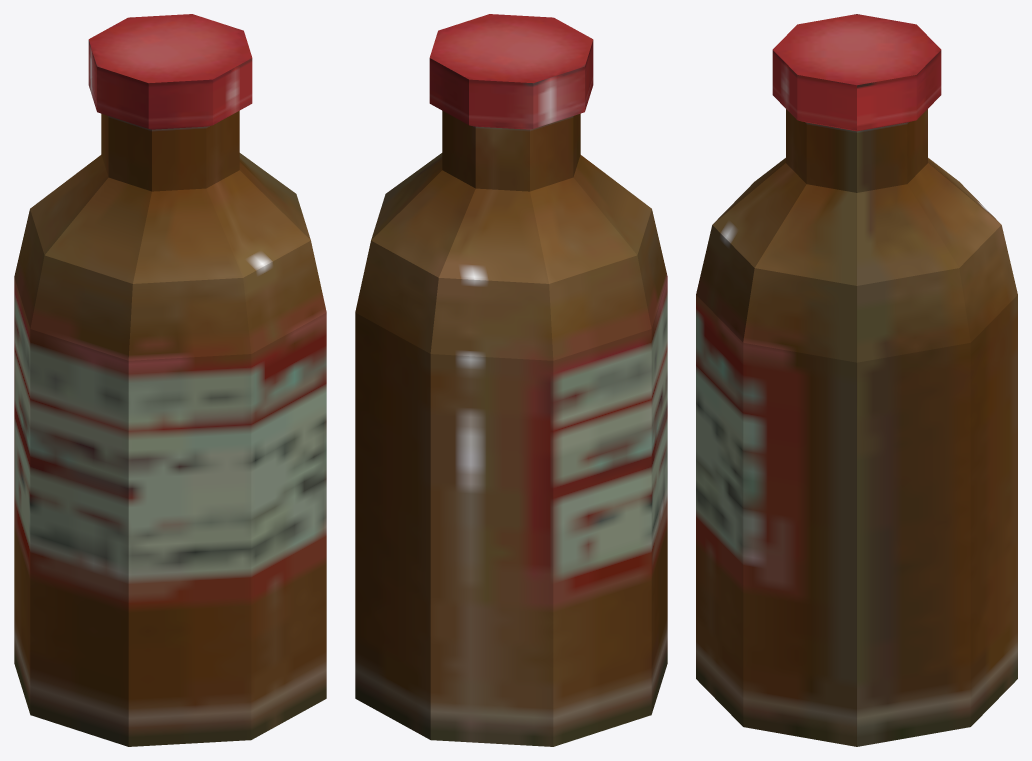
File: jar_large_1.fbx
3 renders of one model, left to right at view 1: azimuth 30°, elevation 25°; view 2: azimuth 150°, elevation 25°; view 3: azimuth 270°, elevation 25°, orthographic.
Parts seen in each view (by area): view 1: mesh_0; view 2: mesh_0; view 3: mesh_0.
Part boxes in pixels (box(x1,y1,x2,y2)): mesh_0: box(14, 14, 326, 746); mesh_0: box(355, 14, 667, 746); mesh_0: box(696, 14, 1017, 746).
Bounding box in the file's own units: 13.91 × 30 × 13.91.
Materials: 1 (1 with a texture image).
